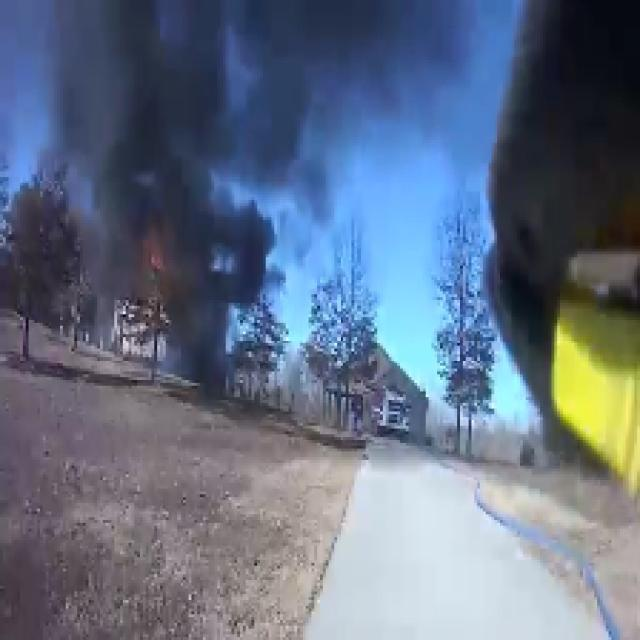Smoke: (68, 18, 268, 246)
